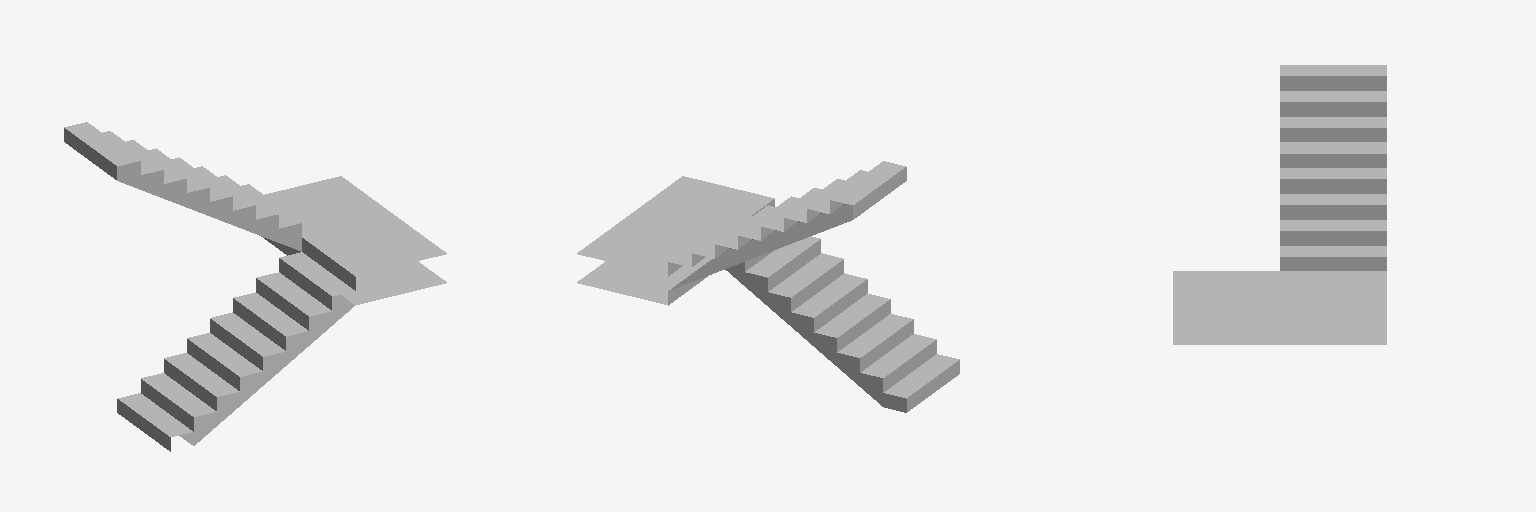
The model's file is u_stairs.obj.
3 views of the same model, side by side, from view 1: azimuth 30°, elevation 25°; view 2: azimuth 150°, elevation 25°; view 3: azimuth 270°, elevation 25° (orthographic).
Parts seen in each view (by area): view 1: Cube.001; view 2: Cube.001; view 3: Cube.001.
Part boxes in pixels (x1,y1,x2,y2): Cube.001: (64, 122, 446, 451); Cube.001: (577, 161, 959, 412); Cube.001: (1173, 65, 1386, 344).
Size of the model in its own units: 6 by 5.1 by 4.